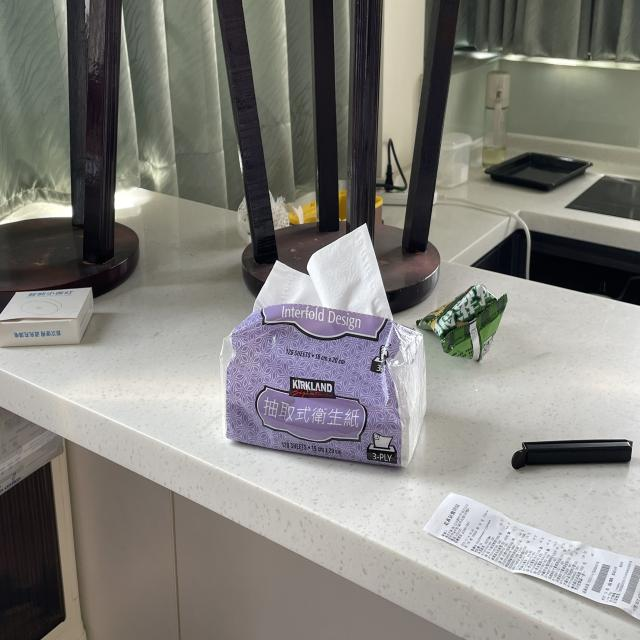tissue: (215, 218, 435, 471)
